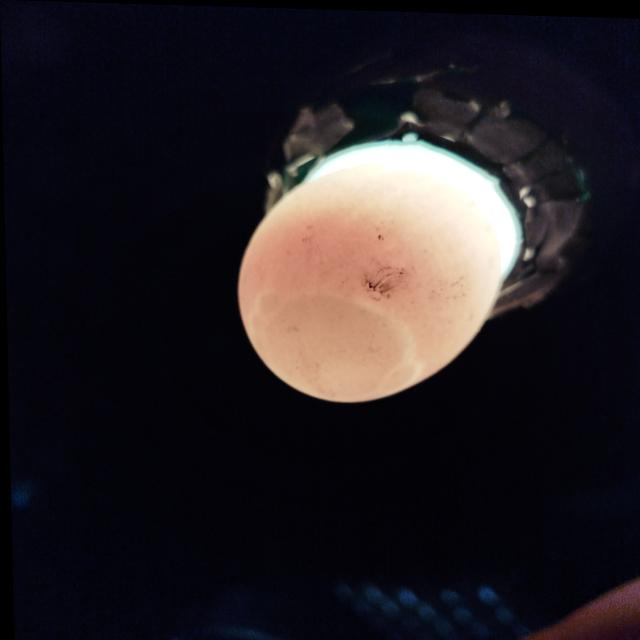Camara de Ar: (243, 288, 422, 400)
